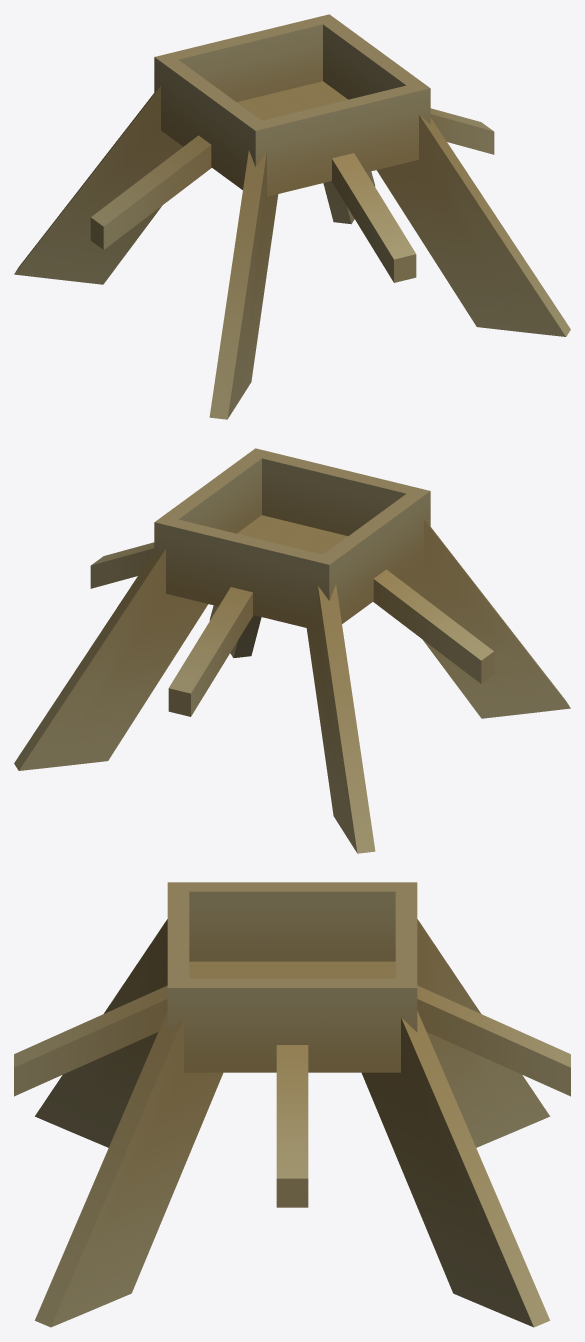
The model's file is aquaduct_piped0.glb.
3 renders of one model, top to bottom at view 1: azimuth 30°, elevation 25°; view 2: azimuth 150°, elevation 25°; view 3: azimuth 270°, elevation 25°, orthographic. The views are drawn at different scales.
Parts seen in each view (by area): view 1: AquaductPiped0; view 2: AquaductPiped0; view 3: AquaductPiped0.
Part boxes in pixels (x1,y1,x2,y2): AquaductPiped0: (14, 14, 570, 419); AquaductPiped0: (14, 448, 570, 853); AquaductPiped0: (14, 882, 570, 1327).
Bounding box in the file's own units: 1.8 × 1.01 × 1.8.
1 material, 1 textured.
